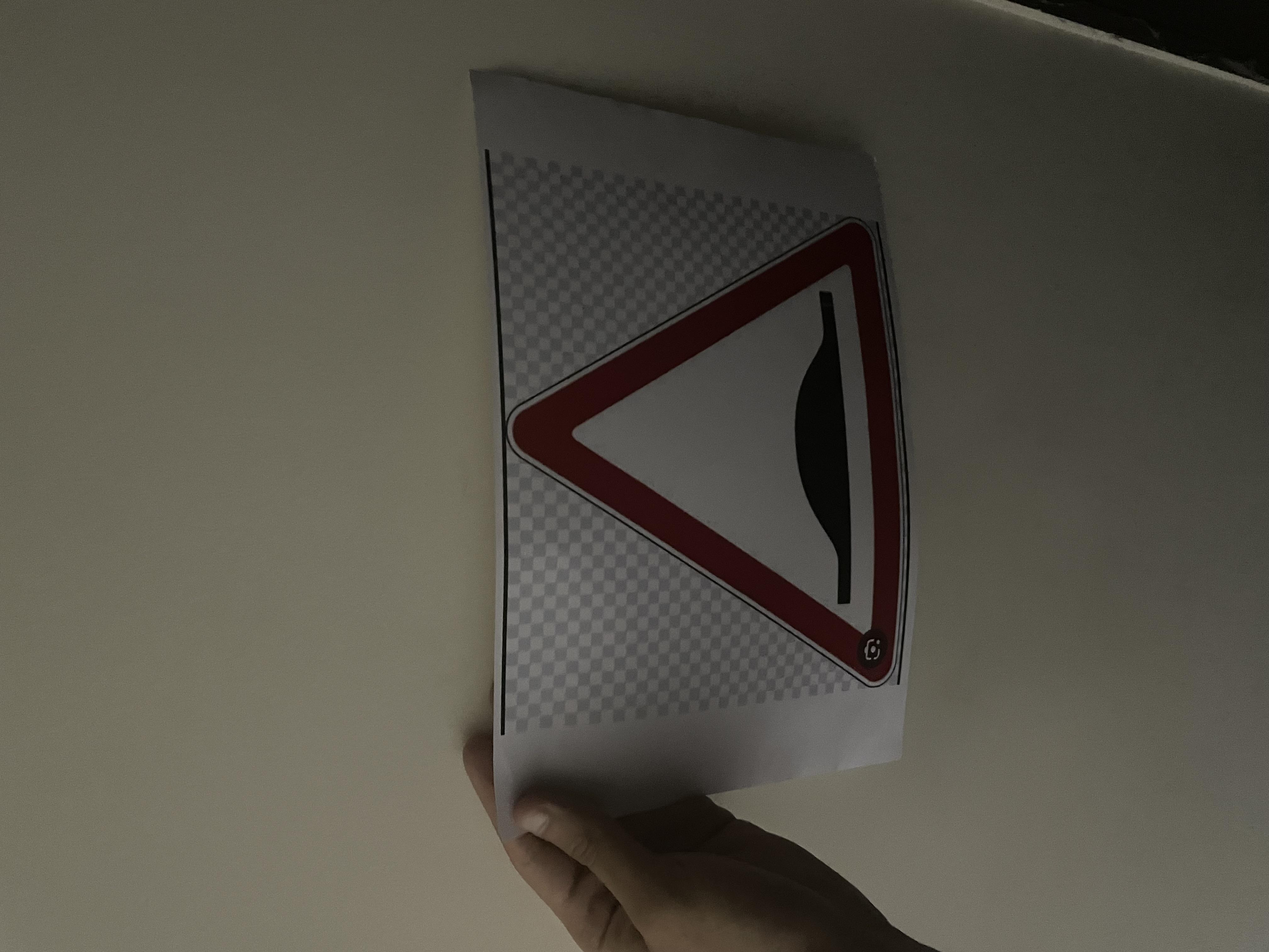Hump: (361, 378, 966, 681)
